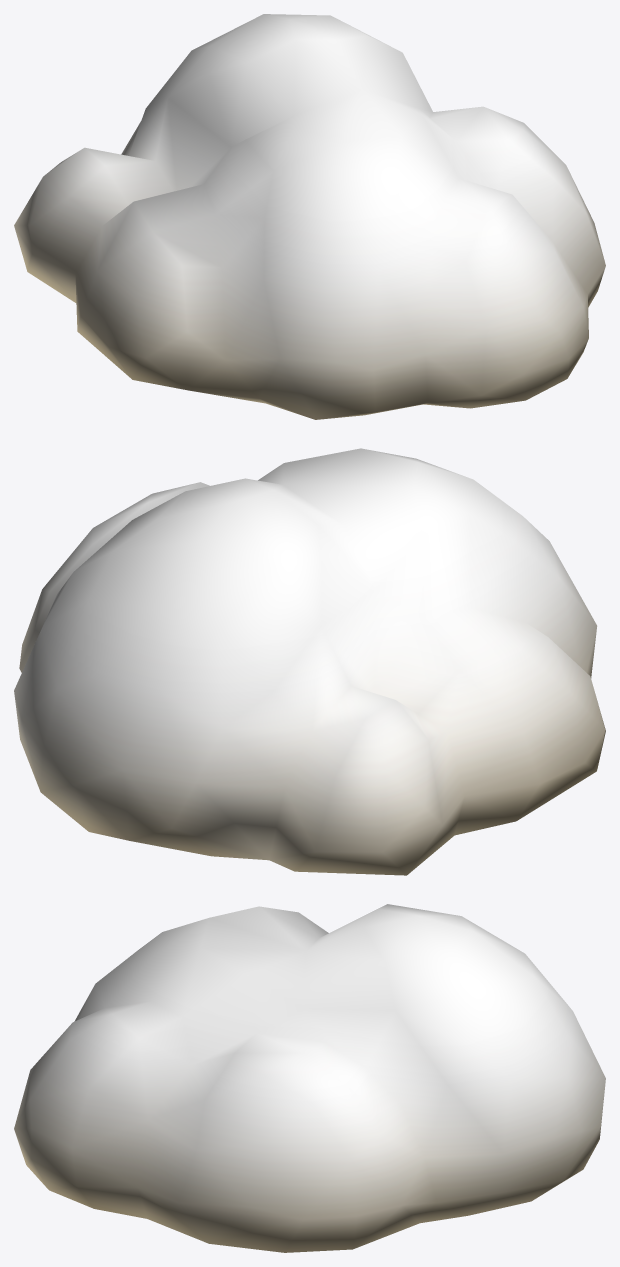
The model's file is FX_Cloud.fbx.
3 renders of one model, top to bottom at view 1: azimuth 30°, elevation 25°; view 2: azimuth 150°, elevation 25°; view 3: azimuth 270°, elevation 25°, orthographic. The views are drawn at different scales.
Visible parts, largest first — view 1: Cloud_01; view 2: Cloud_01; view 3: Cloud_01.
Part boxes in pixels (x1,y1,x2,y2): Cloud_01: [14, 14, 605, 419]; Cloud_01: [14, 448, 605, 875]; Cloud_01: [14, 904, 605, 1252].
Bounding box in the file's own units: 112 × 75.09 × 125.
